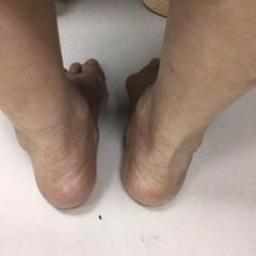Back View -Both Feet-: (5, 33, 236, 223)
